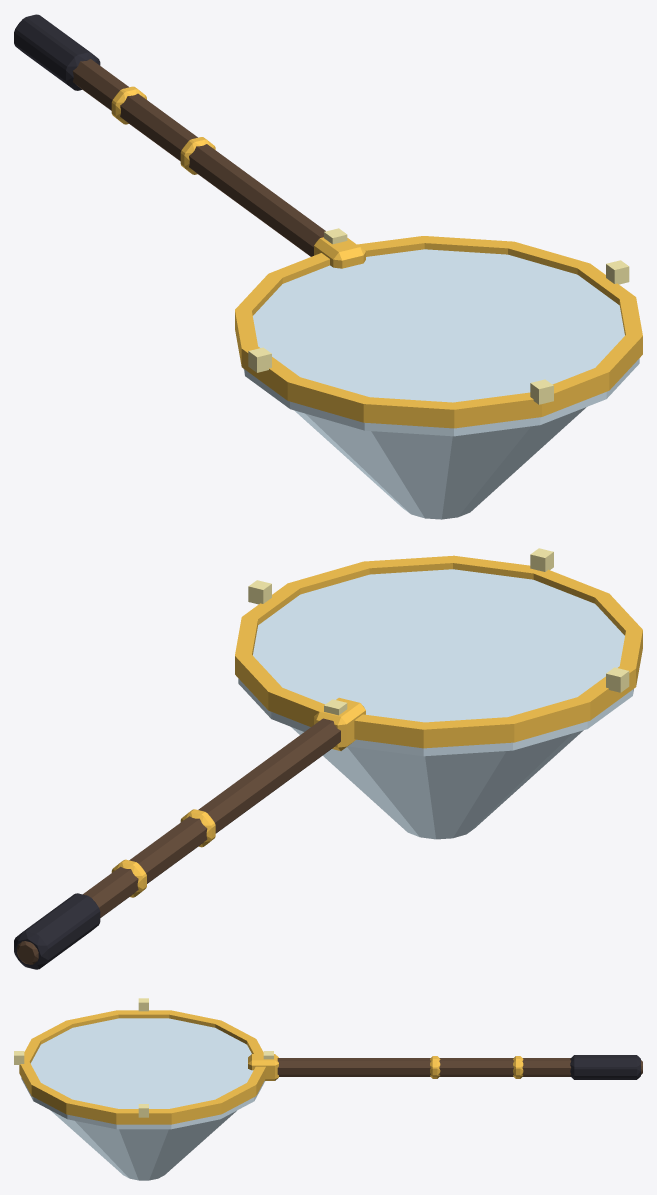
File: CatCafe_Item_Net_L3.glb
3 renders of one model, top to bottom at view 1: azimuth 30°, elevation 25°; view 2: azimuth 150°, elevation 25°; view 3: azimuth 270°, elevation 25°, orthographic. The views are drawn at different scales.
Parts seen in each view (by area): view 1: CatCafe_Item_Net_L3_Bag, CatCafe_Item_Net_L3_Handle; view 2: CatCafe_Item_Net_L3_Bag, CatCafe_Item_Net_L3_Handle; view 3: CatCafe_Item_Net_L3_Bag, CatCafe_Item_Net_L3_Handle.
Boxes of the visible parts, bbox=[...] form: CatCafe_Item_Net_L3_Bag: bbox=[243, 249, 639, 519]; CatCafe_Item_Net_L3_Handle: bbox=[14, 14, 642, 428]; CatCafe_Item_Net_L3_Bag: bbox=[238, 569, 633, 839]; CatCafe_Item_Net_L3_Handle: bbox=[14, 548, 642, 969]; CatCafe_Item_Net_L3_Bag: bbox=[21, 1018, 265, 1180]; CatCafe_Item_Net_L3_Handle: bbox=[14, 998, 642, 1124].
Size of the model in its own units: 2.5 by 1.25 by 6.05.
Materials: 1 (1 with a texture image).
